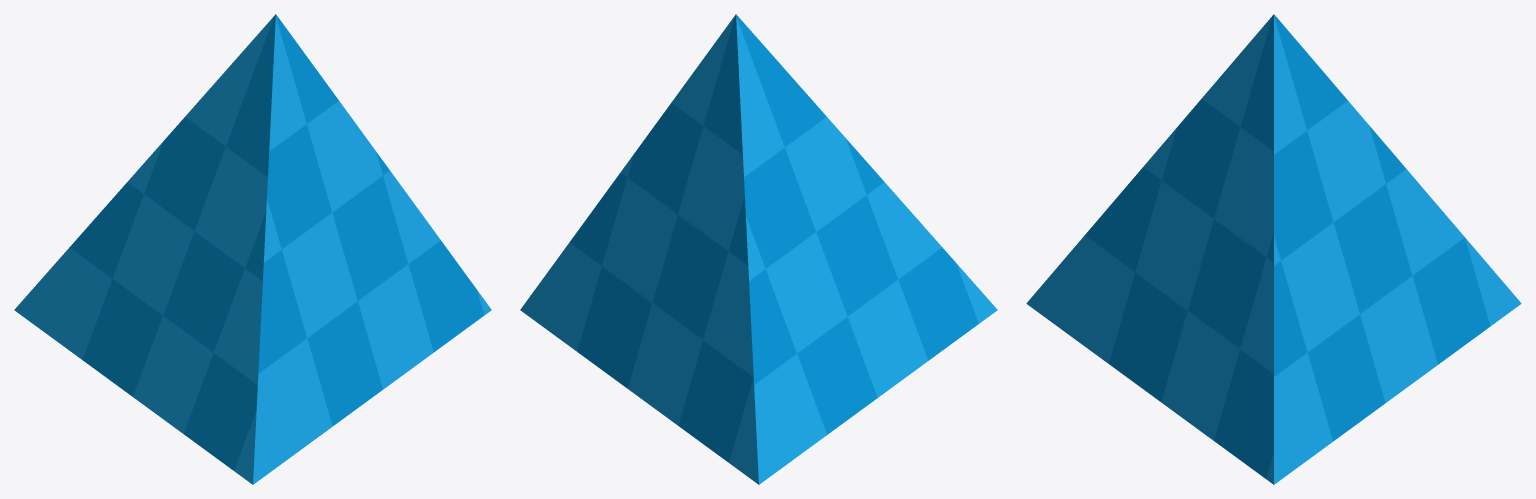
Rendered from tetrahedron256.FBX.
3 renders of one model, left to right at view 1: azimuth 30°, elevation 25°; view 2: azimuth 150°, elevation 25°; view 3: azimuth 270°, elevation 25°, orthographic. The views are drawn at different scales.
Parts seen in each view (by area): view 1: tetrahedron256; view 2: tetrahedron256; view 3: tetrahedron256.
Boxes of the visible parts, x1,y1,x2,y2 form: tetrahedron256: [14, 14, 491, 484]; tetrahedron256: [520, 14, 997, 484]; tetrahedron256: [1026, 14, 1521, 484].
Size of the model in its own units: 101 by 116 by 93.75.
